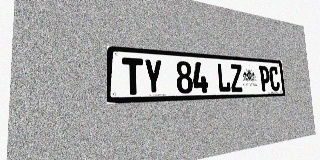4: (192, 62, 208, 93)
8: (176, 61, 193, 94)
C: (269, 66, 280, 91)
L: (216, 63, 231, 92)
P: (259, 66, 271, 91)
T: (122, 57, 143, 95)
Y: (143, 59, 163, 94)
Z: (230, 64, 243, 92)
